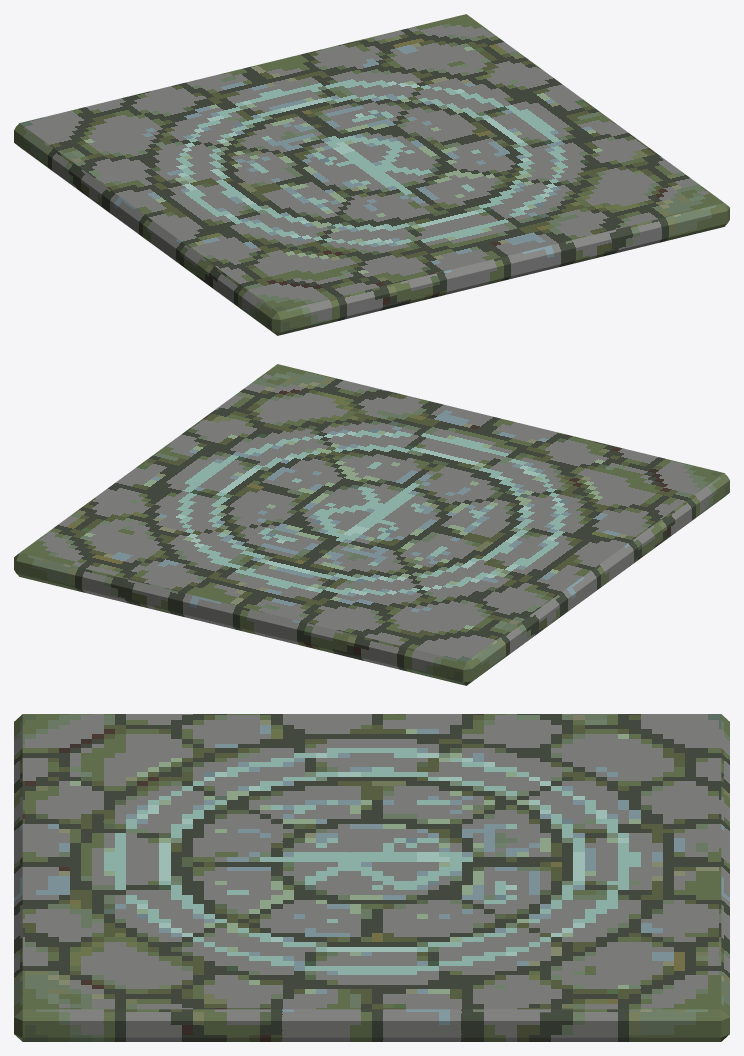
File: topo_zona.fbx
3 views of the same model, one above another, from view 1: azimuth 30°, elevation 25°; view 2: azimuth 150°, elevation 25°; view 3: azimuth 270°, elevation 25° (orthographic). The views are drawn at different scales.
Visible parts, largest first — view 1: bosque_topo_zona; view 2: bosque_topo_zona; view 3: bosque_topo_zona.
Boxes of the visible parts, x1,y1,x2,y2 form: bosque_topo_zona: (14, 14, 729, 335); bosque_topo_zona: (14, 364, 729, 685); bosque_topo_zona: (14, 714, 729, 1041).
Size of the model in its own units: 100 by 5 by 100.
1 material, 1 textured.
